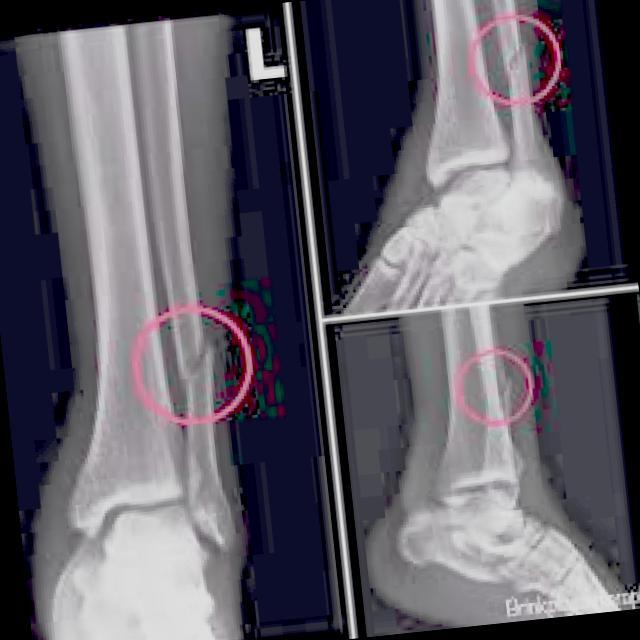Comminuted Fracture: (166, 331, 236, 388), (474, 370, 524, 416), (491, 39, 543, 81)
